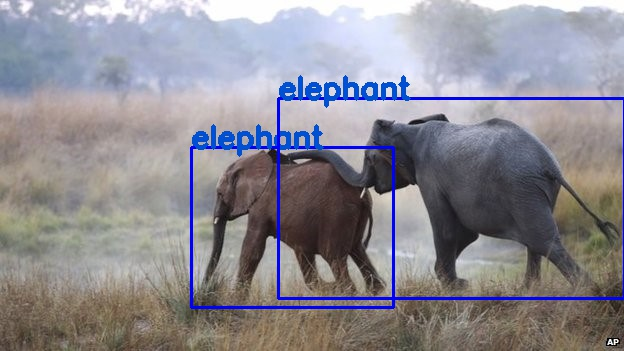elephant: (277, 98, 623, 298), (191, 147, 393, 307)
